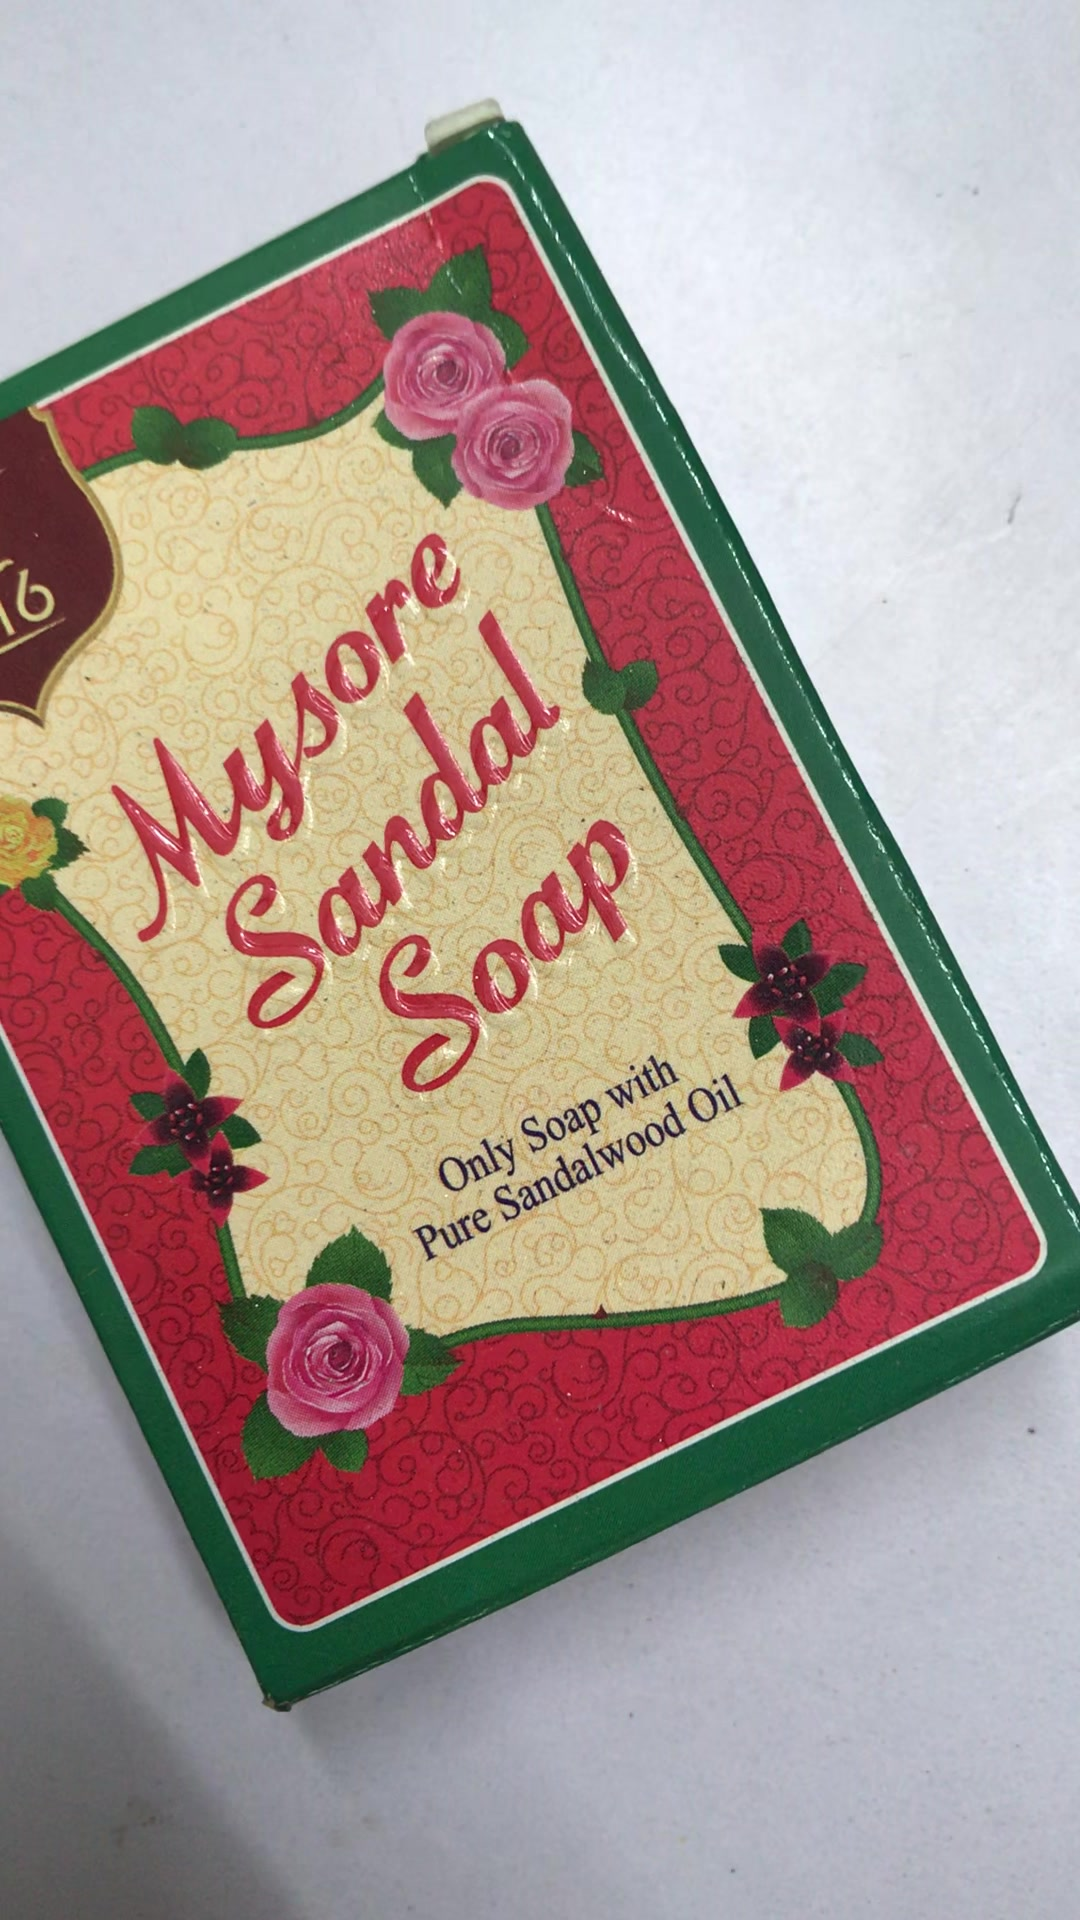mysore sandal soap: (7, 129, 1080, 1700)
